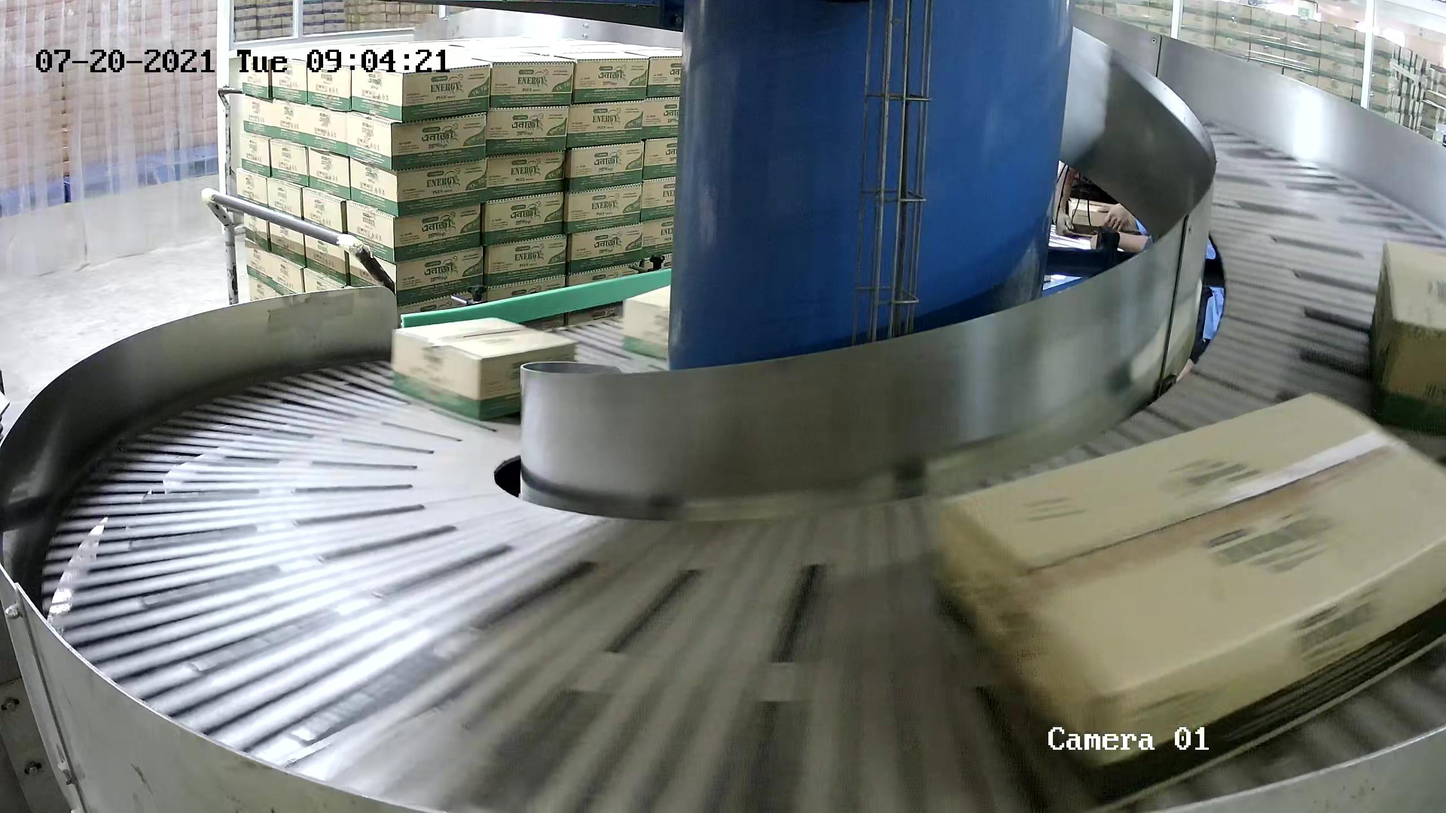Box: (924, 382, 1446, 813), (389, 313, 577, 422), (1367, 239, 1446, 435), (620, 282, 672, 363)
